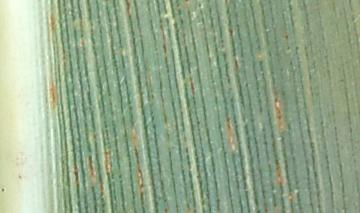tarspot: (283, 32, 289, 40), (1, 185, 6, 193), (17, 173, 23, 179)
